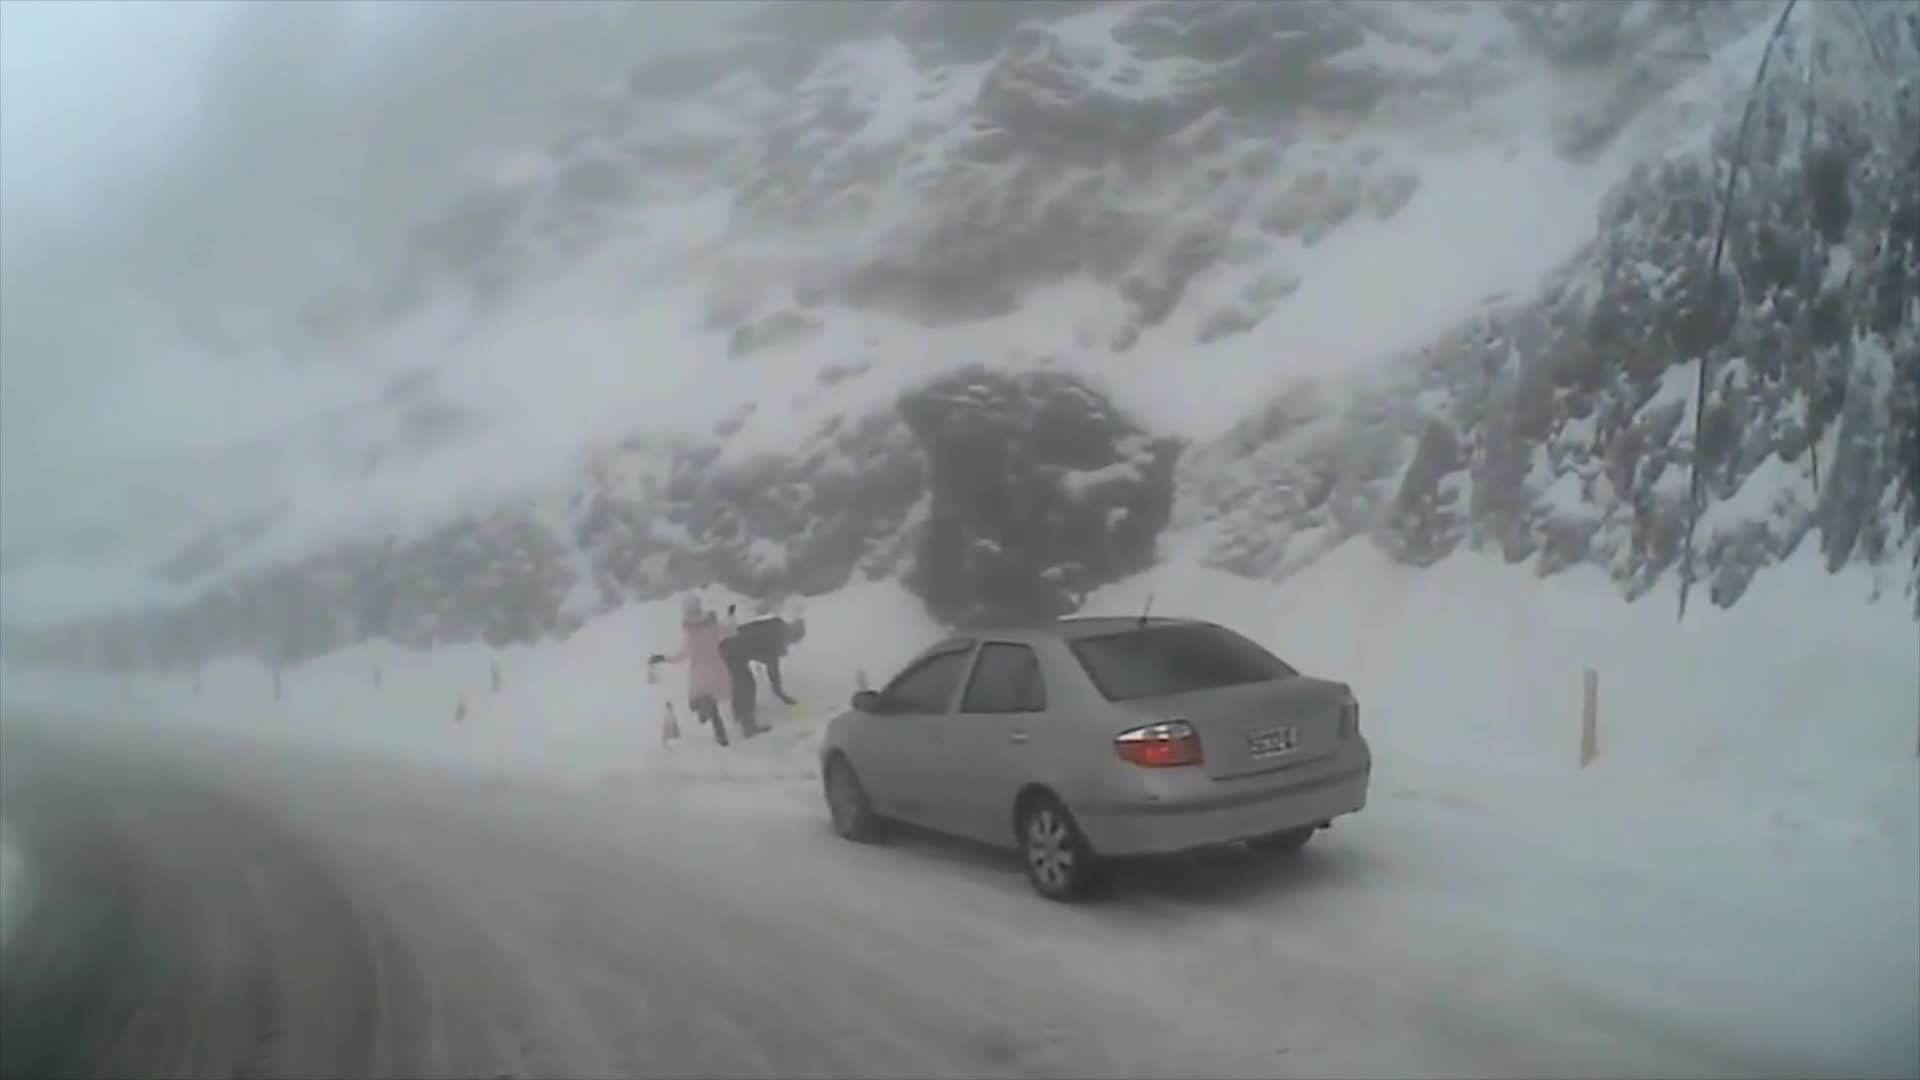pedestrian: (654, 593, 743, 752)
vehicle: (816, 612, 1371, 905)
